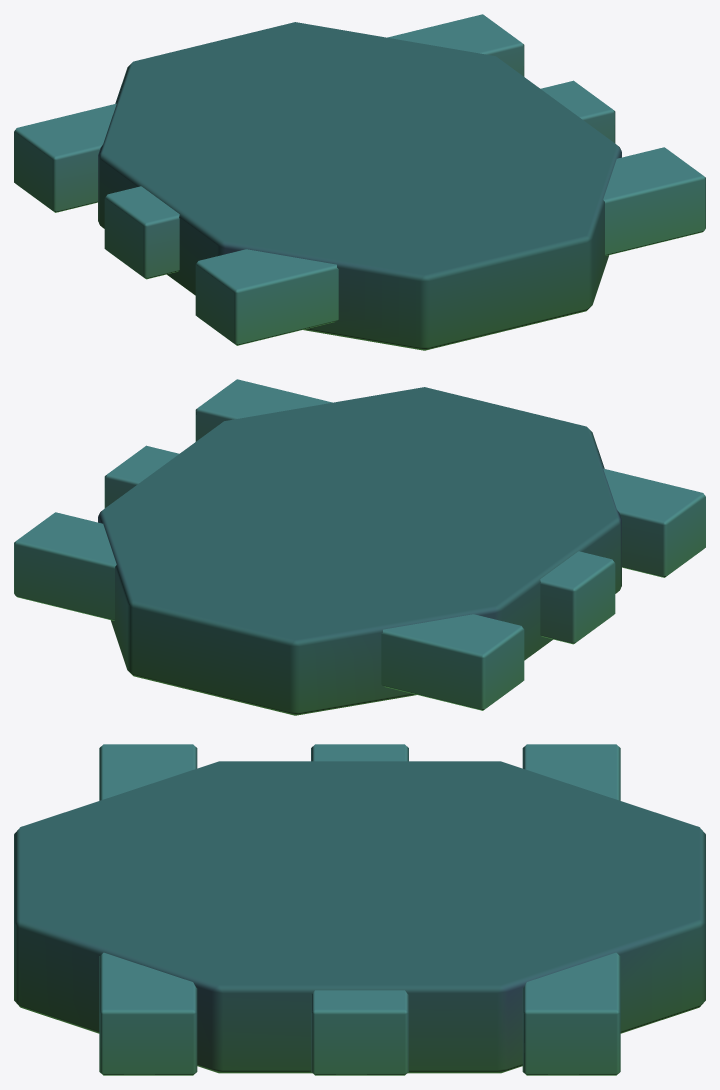
File: kit_boss_chassis.glb
3 renders of one model, top to bottom at view 1: azimuth 30°, elevation 25°; view 2: azimuth 150°, elevation 25°; view 3: azimuth 270°, elevation 25°, orthographic. The views are drawn at different scales.
Visible parts, largest first — view 1: Body__dark, Body__gunmetal; view 2: Body__dark, Body__gunmetal; view 3: Body__dark, Body__gunmetal.
Part boxes in pixels (bbox=[...]): Body__dark: bbox=[98, 22, 621, 350]; Body__gunmetal: bbox=[14, 14, 705, 345]; Body__dark: bbox=[98, 387, 621, 715]; Body__gunmetal: bbox=[14, 379, 705, 710]; Body__dark: bbox=[14, 761, 705, 1073]; Body__gunmetal: bbox=[99, 744, 620, 1075].
Size of the model in its own units: 1.56 by 0.265 by 1.7.
